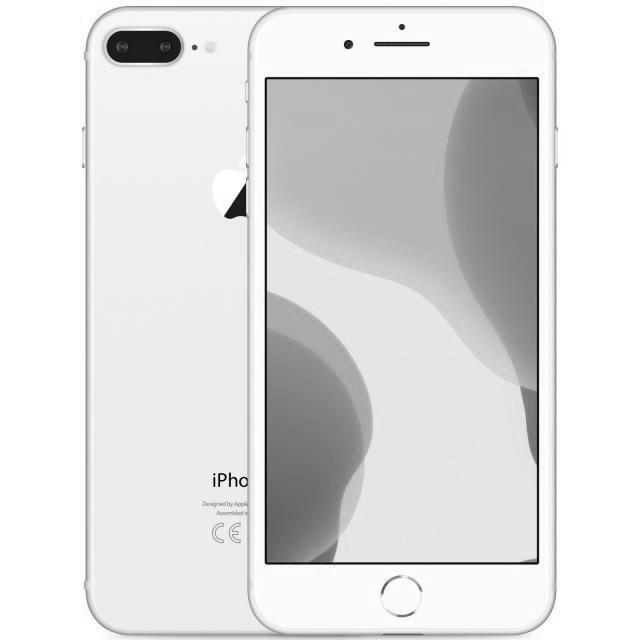fake: (250, 0, 558, 640)
